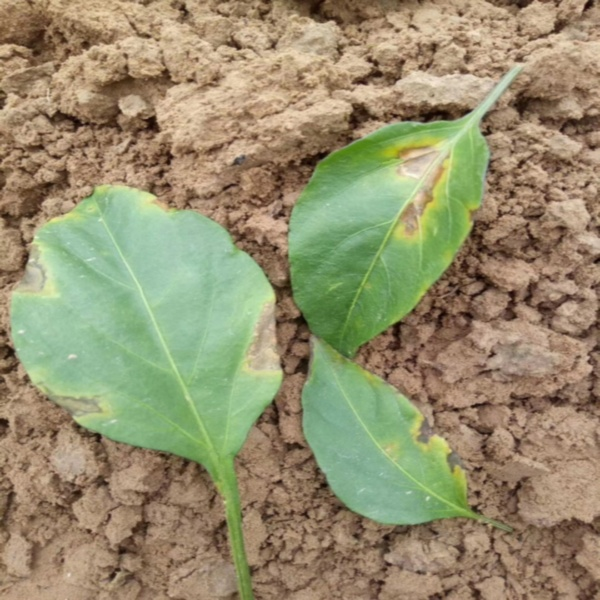blight: (393, 141, 446, 234), (412, 416, 470, 473), (7, 237, 48, 296), (249, 303, 282, 369), (45, 394, 103, 423)
